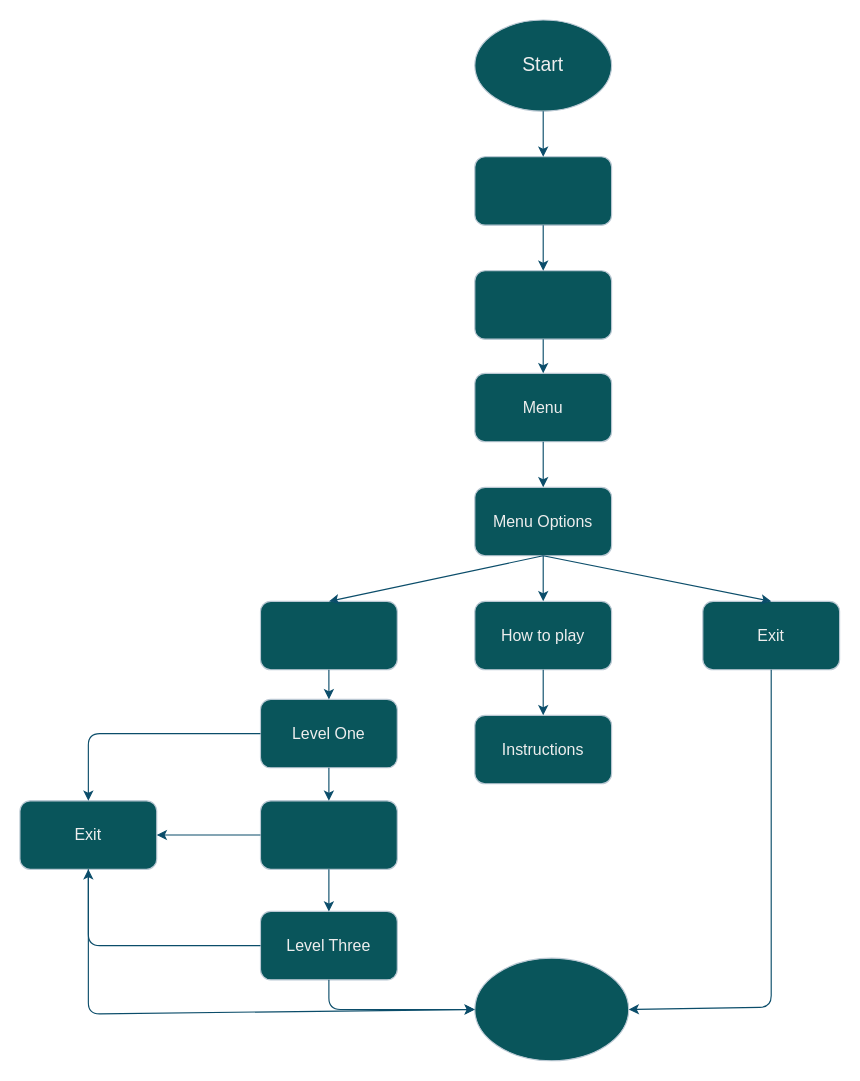
This 860x1081 diagram has some shape labels left out. The shapes that lost their labels are listed below. From the top down, each one's centre as x and y in pixels, then its label:
point (543, 190): frontEnd()
point (543, 304): print Welcome
point (328, 635): Start a Game
point (328, 834): Level Two
point (551, 1009): End
